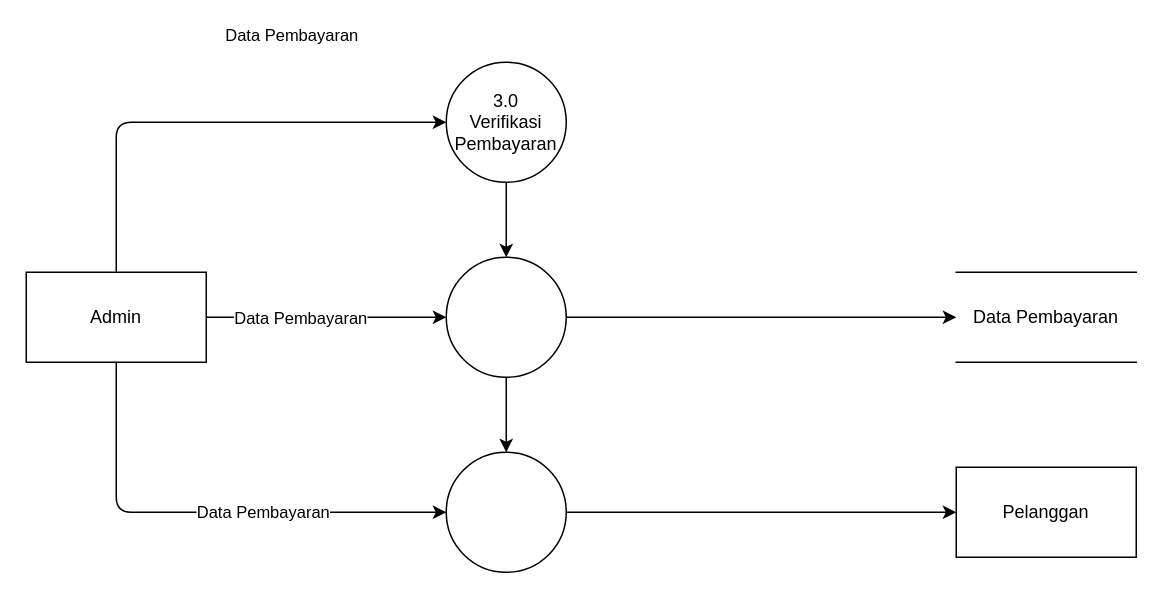
The diagram is 1163 pixels wide and 599 high, and some of its shapes have lost their labels. Each missing label, with the centre of its shape:
"3.1 Input Pembayaran" belongs at point (505, 316).
"3.2 Cetak Struk Pembayaran" belongs at point (505, 511).
